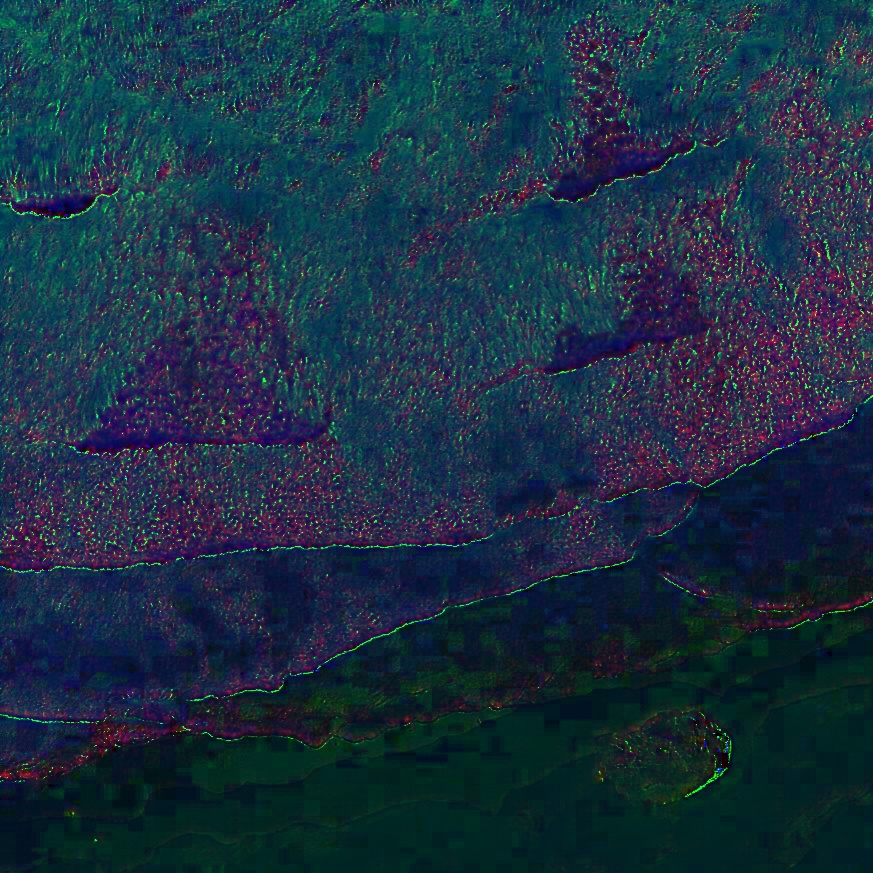rip_current: (236, 102, 593, 529)
